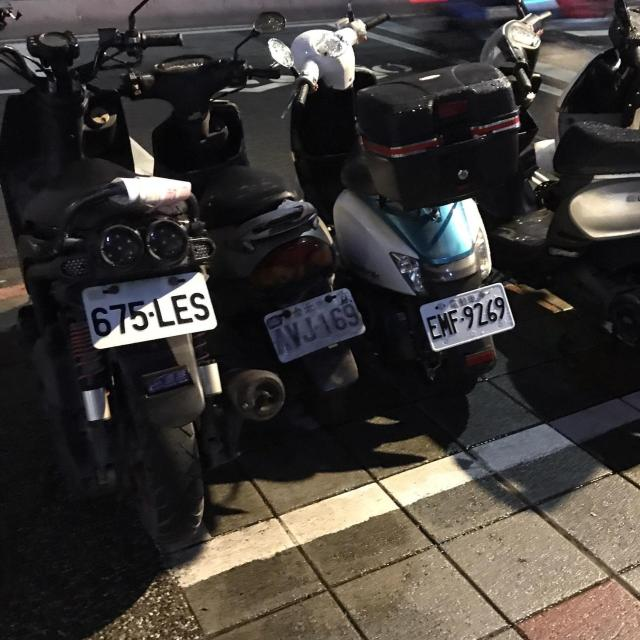W: (76, 260, 228, 356), (260, 276, 378, 368), (413, 276, 523, 354)
